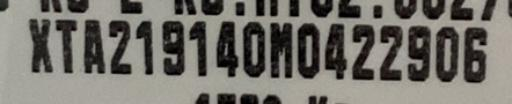letter: (294, 20, 322, 80), (26, 16, 54, 74), (80, 16, 108, 74), (462, 25, 490, 83), (106, 18, 134, 74), (214, 18, 240, 78), (322, 20, 348, 80), (54, 17, 80, 76), (240, 19, 266, 78), (161, 19, 187, 77), (267, 20, 293, 78), (350, 22, 376, 80), (378, 23, 404, 81), (405, 24, 431, 82), (434, 25, 460, 81), (186, 18, 210, 77), (133, 18, 155, 76)
